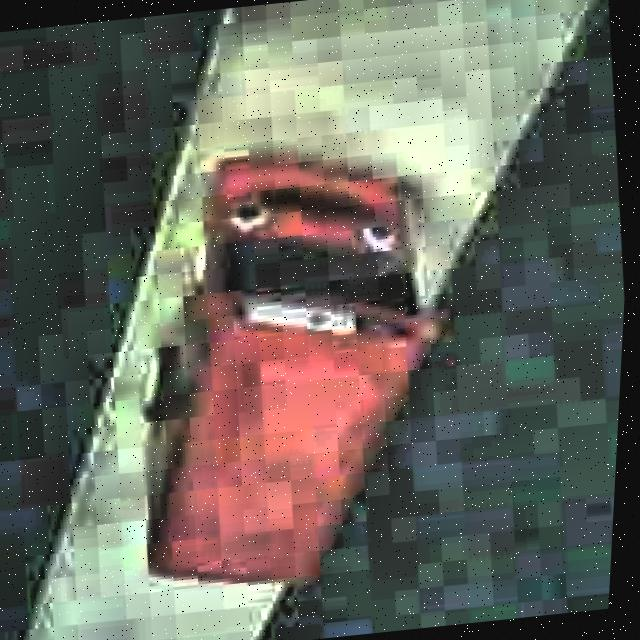bus: (101, 132, 470, 598)
